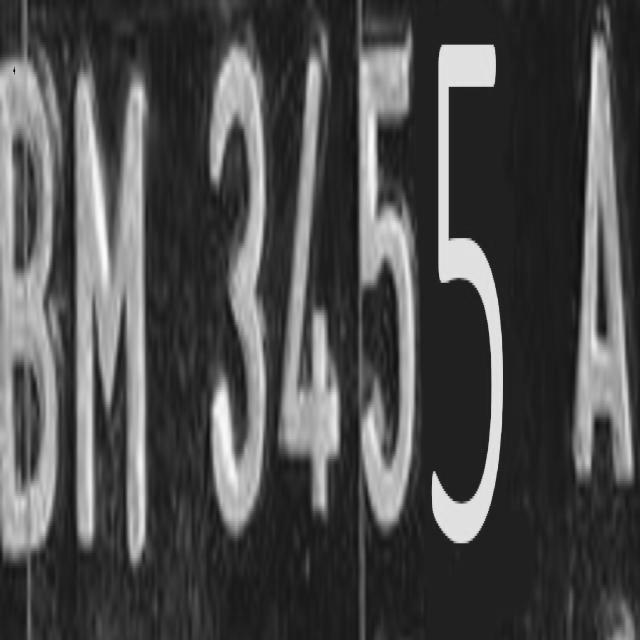3: (208, 33, 268, 542)
4: (280, 25, 342, 526)
5: (431, 28, 506, 550), (350, 33, 422, 532)
A: (568, 23, 640, 512)
B: (0, 45, 61, 568)
M: (64, 58, 156, 560)
